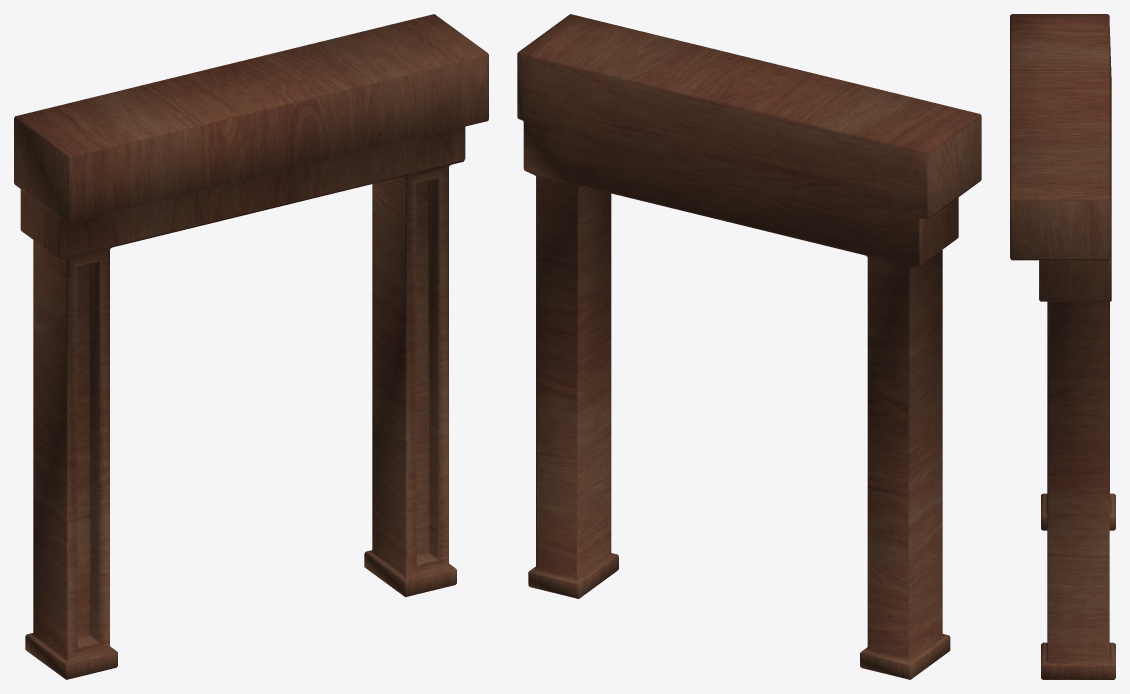
Rendered from Doorway.fbx.
3 views of the same model, side by side, from view 1: azimuth 30°, elevation 25°; view 2: azimuth 150°, elevation 25°; view 3: azimuth 270°, elevation 25° (orthographic). The views are drawn at different scales.
Parts seen in each view (by area): view 1: DoorwayContract; view 2: DoorwayContract; view 3: DoorwayContract.
Part boxes in pixels (bbox=[...]): DoorwayContract: bbox=[14, 14, 488, 679]; DoorwayContract: bbox=[517, 14, 981, 679]; DoorwayContract: bbox=[1010, 14, 1115, 679].
Size of the model in its own units: 2.59 by 3.17 by 0.6237.
